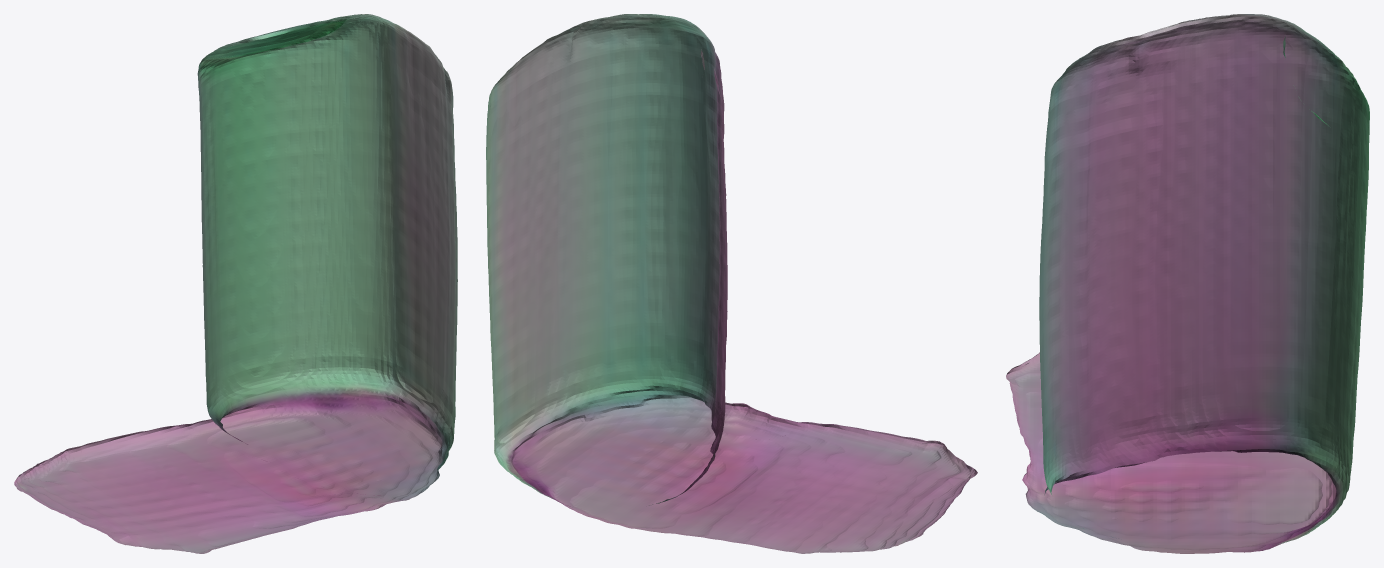
3 renders of one model, left to right at view 1: azimuth 30°, elevation 25°; view 2: azimuth 150°, elevation 25°; view 3: azimuth 270°, elevation 25°, orthographic. The views are drawn at different scales.
Visible parts, largest first — view 1: geometry_0; view 2: geometry_0; view 3: geometry_0.
Boxes of the visible parts, <box> form: geometry_0: <box>14,14,457,553</box>; geometry_0: <box>486,14,977,553</box>; geometry_0: <box>1006,14,1369,553</box>.
Bounding box in the file's own units: 1.6 × 1.58 × 1.11.
